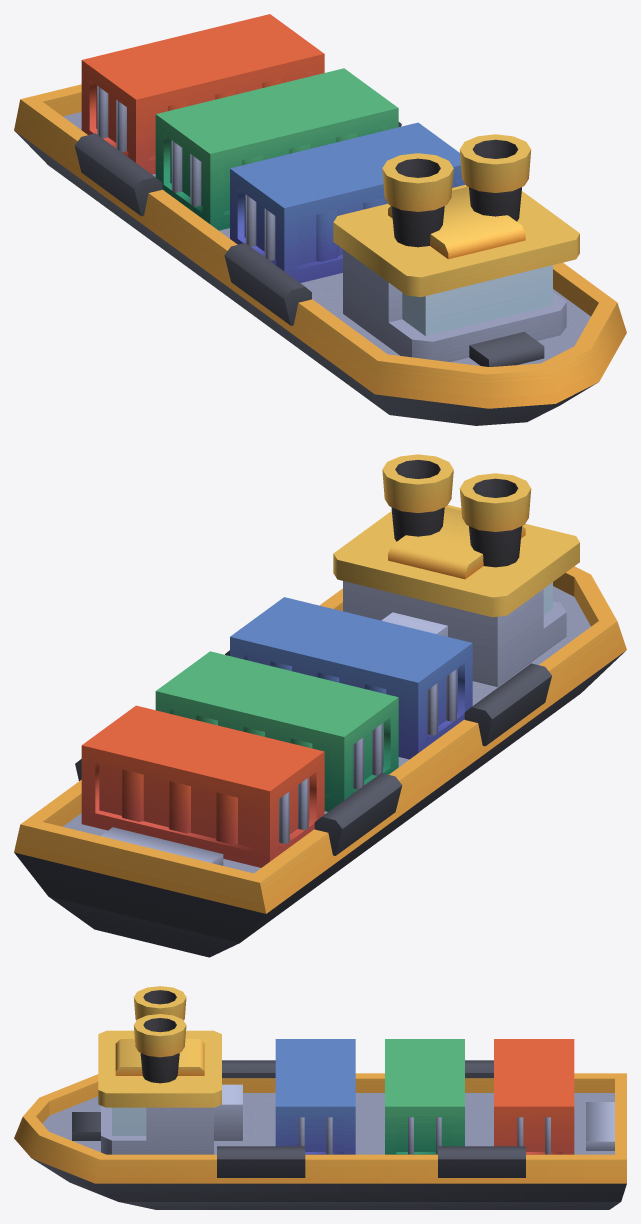
File: ship-cargo-a.glb
3 views of the same model, one above another, from view 1: azimuth 30°, elevation 25°; view 2: azimuth 150°, elevation 25°; view 3: azimuth 270°, elevation 25° (orthographic). The views are drawn at different scales.
Parts seen in each view (by area): view 1: ship-cargo-a; view 2: ship-cargo-a; view 3: ship-cargo-a.
Boxes of the visible parts, box(x1,y1,x2,y2) form: ship-cargo-a: box(14, 14, 626, 425); ship-cargo-a: box(14, 454, 626, 957); ship-cargo-a: box(14, 986, 626, 1209).
Bounding box in the file's own units: 3.92 × 3.38 × 10.55.
1 material, 1 textured.
